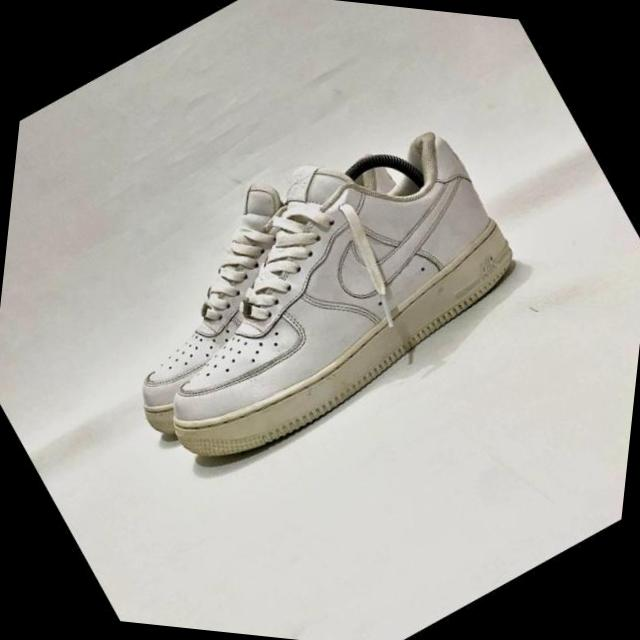nike_original_airforce: (74, 62, 562, 516), (57, 96, 472, 478)
